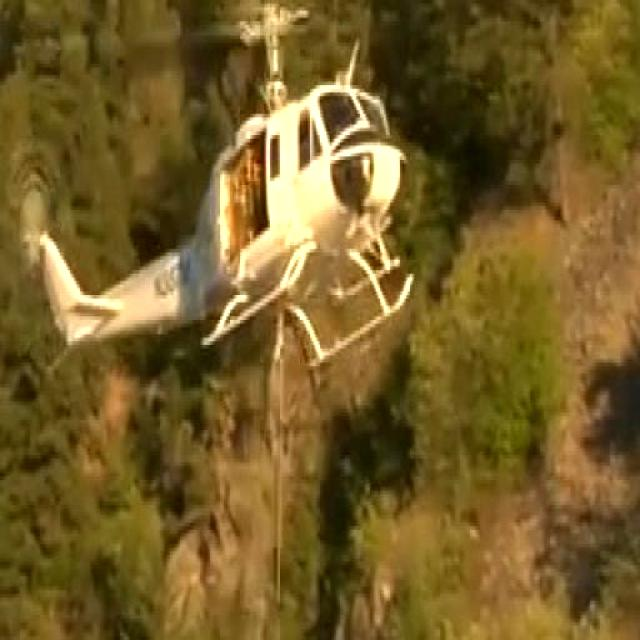drone: (31, 0, 419, 384)
